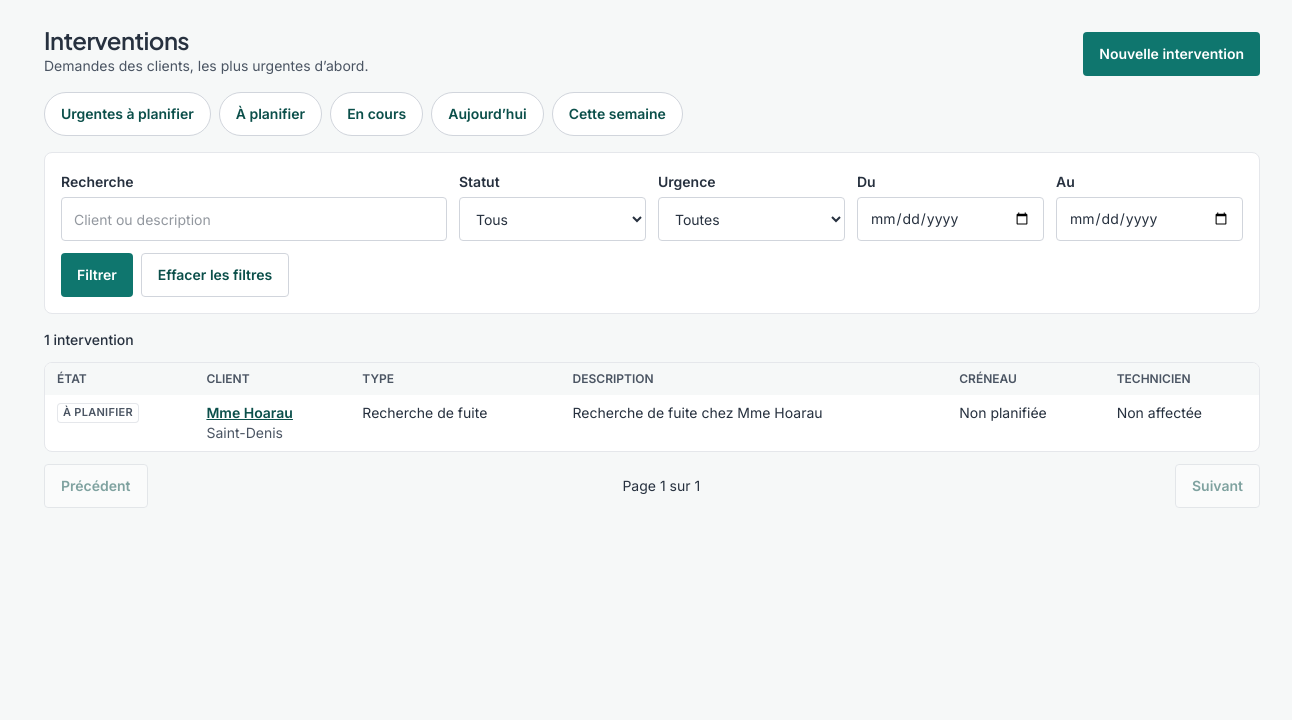
Scenario: liste des interventions (US15) › US15 : applique les filtres choisis et les garde dans l’adresse
Expected: the table is shown, [45, 363, 1259, 451]
Type "hoarau" into the search field labelled "Recherche" at (254, 219), box [61, 197, 447, 241]
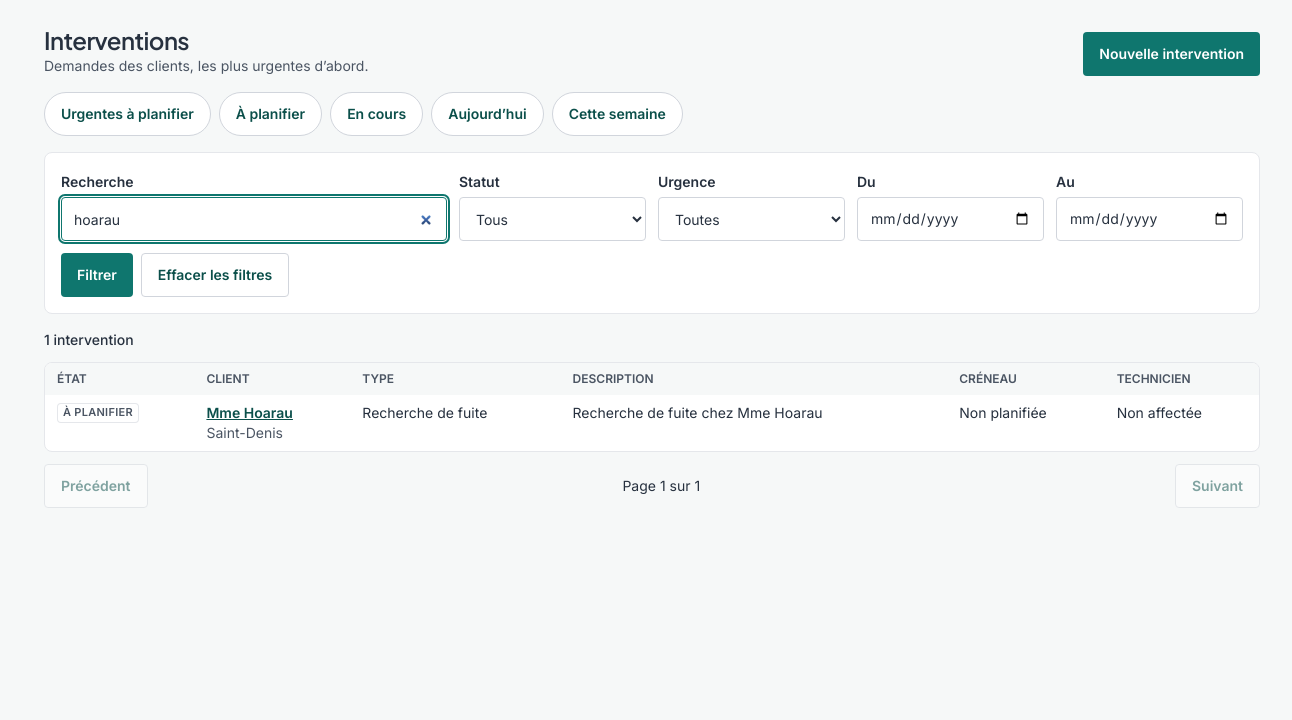
Select "En cours" in the dropdown labelled "Statut" at (552, 219), box [459, 197, 646, 241]
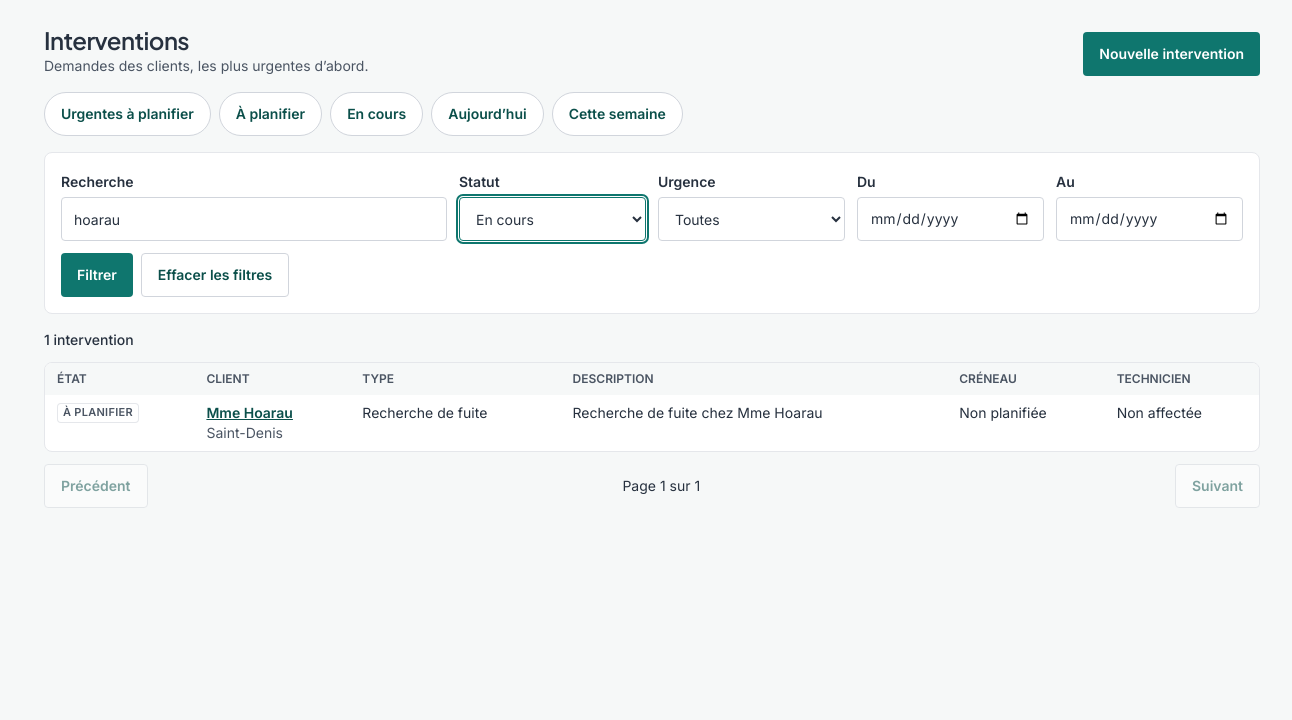
Click the button "Filtrer" at (97, 275), box [61, 253, 133, 297]
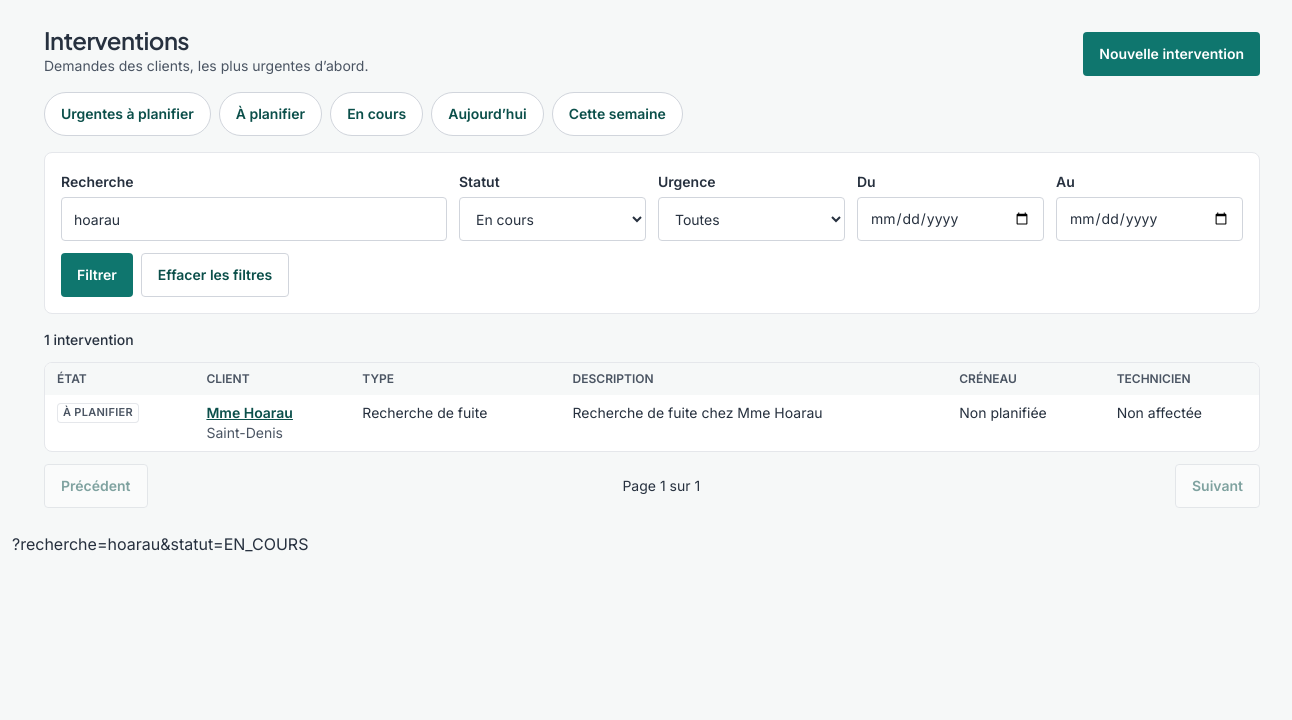
Expected: the table is shown, [45, 363, 1259, 451]
Expected: the text named "Adresse" reads "?recherche=hoarau&statut=EN_COURS", [12, 534, 308, 554]
